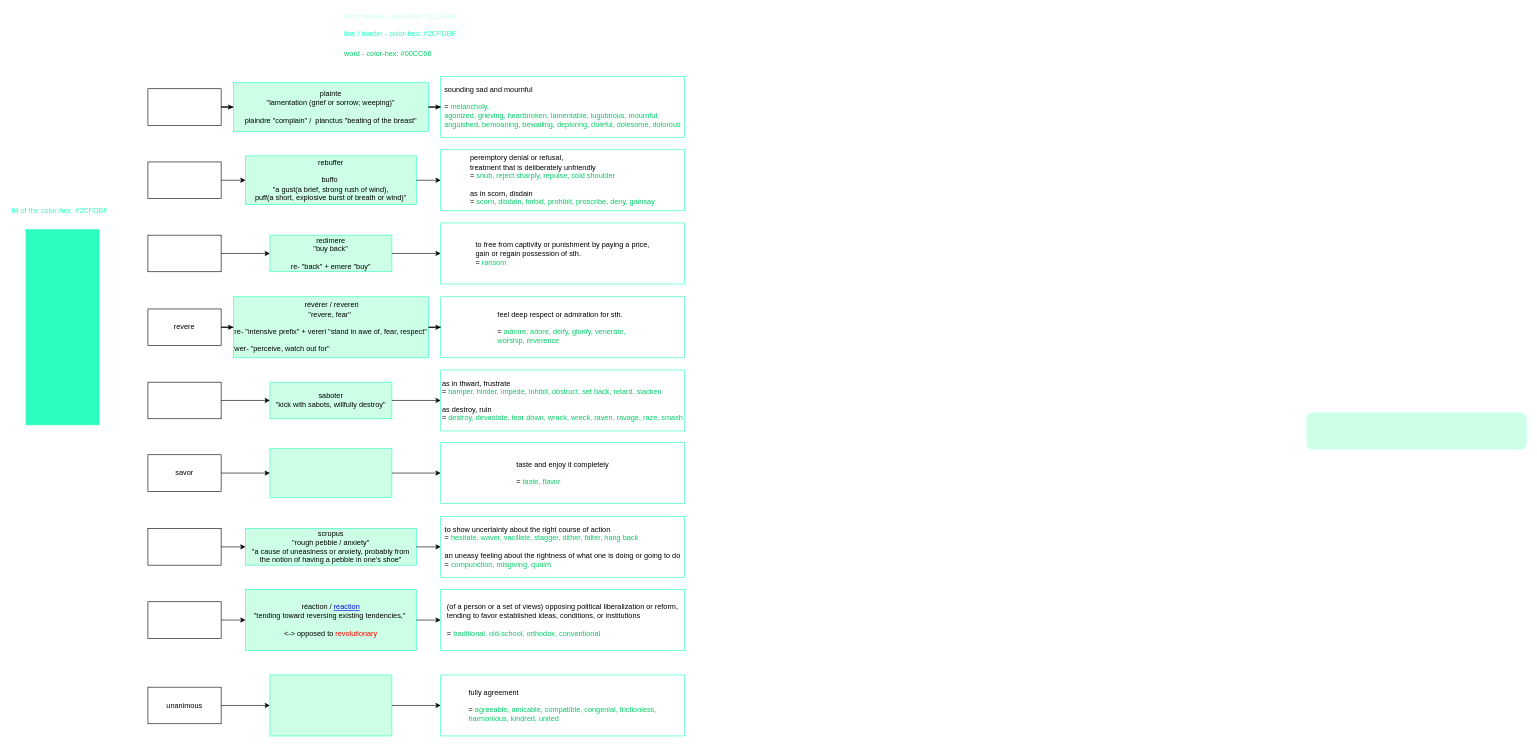
Some shapes in this 1537 by 747 pixel diagram are drawn without their labels. Here are the shapes that lost their labels. From the top down, the centre of each, then its label:
(184,106): plaintive
(184,180): rebuff
(184,253): redeem
(62,327): p.26 plaintive rebuff redeem revere sabotage savor scruple reactionary unanimous
(184,400): sabotage
(1416,430): log transformation
(330,472): sapere / sapor "to taste"
(184,546): scruple
(184,619): reactionary
(330,705): unanumus unus "one" + animus "mind"
